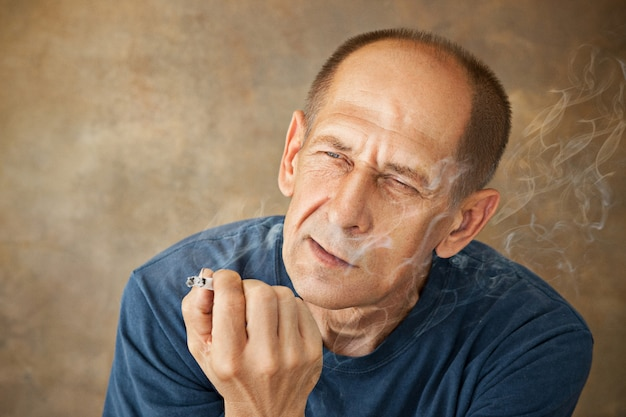cigarette: (186, 274, 214, 294)
